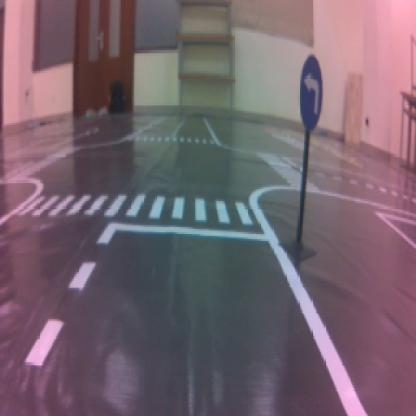clock: (300, 57, 321, 127)
